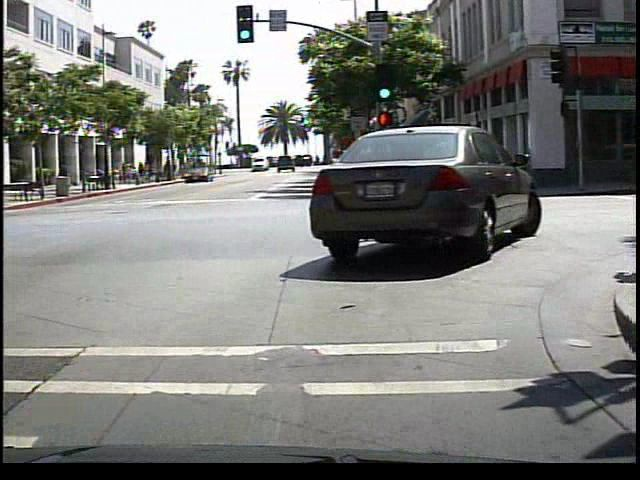person: (52, 160, 70, 192)
